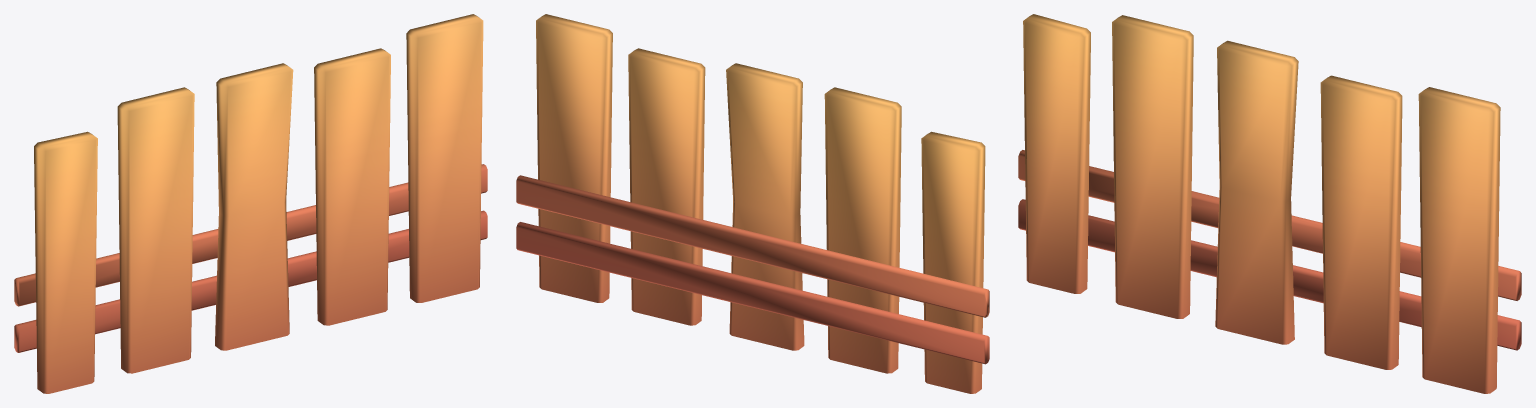
The model's file is Furniture_Ornament_45.fbx.
3 renders of one model, left to right at view 1: azimuth 30°, elevation 25°; view 2: azimuth 150°, elevation 25°; view 3: azimuth 330°, elevation 25°, orthographic. The views are drawn at different scales.
Visible parts, largest first — view 1: Furniture_Ornament_45; view 2: Furniture_Ornament_45; view 3: Furniture_Ornament_45.
Boxes of the visible parts, box(x1,y1,x2,y2) form: Furniture_Ornament_45: box(14, 14, 487, 393); Furniture_Ornament_45: box(516, 14, 989, 393); Furniture_Ornament_45: box(1018, 14, 1521, 393).
Bounding box in the file's own units: 150 × 82.32 × 8.46.
